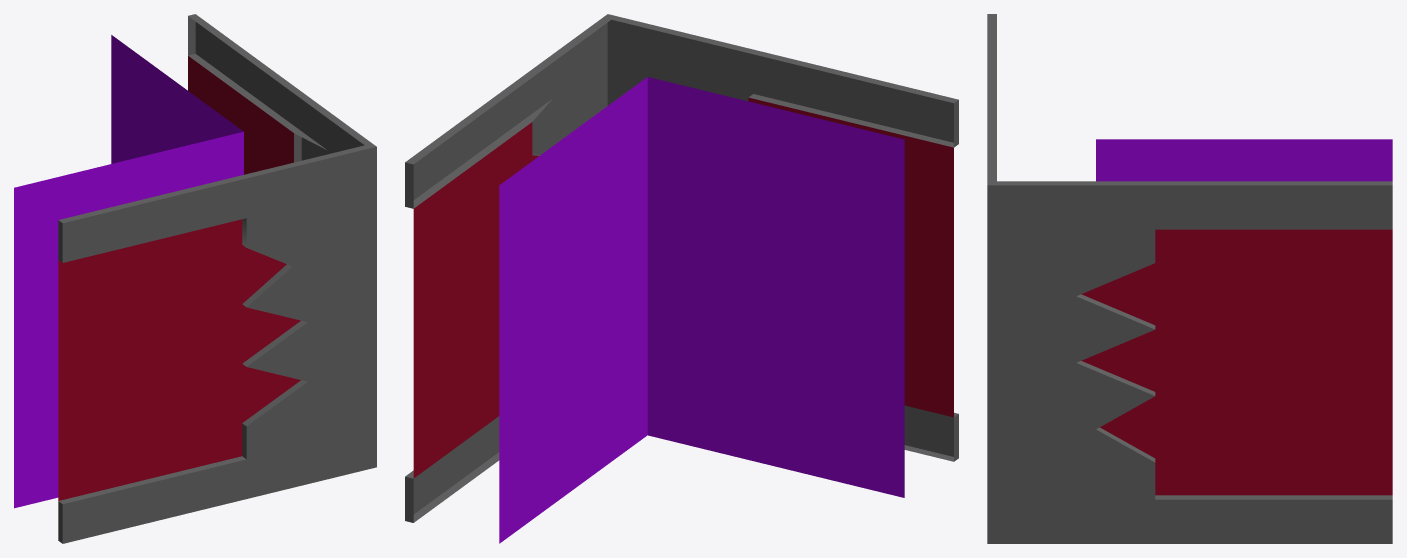
Rendered from Corner_01_1x1.fbx.
The picture shows the model from 3 angles, left to right: view 1: azimuth 30°, elevation 25°; view 2: azimuth 150°, elevation 25°; view 3: azimuth 270°, elevation 25°; orthographic projection. The views are drawn at different scales.
Visible parts, largest first — view 1: Wall_Corner_1x1; view 2: Wall_Corner_1x1; view 3: Wall_Corner_1x1.
Part boxes in pixels (bbox=[...]): Wall_Corner_1x1: bbox=[14, 14, 376, 543]; Wall_Corner_1x1: bbox=[405, 14, 958, 543]; Wall_Corner_1x1: bbox=[987, 14, 1392, 543].
Size of the model in its own units: 1.02 by 1 by 1.03.
